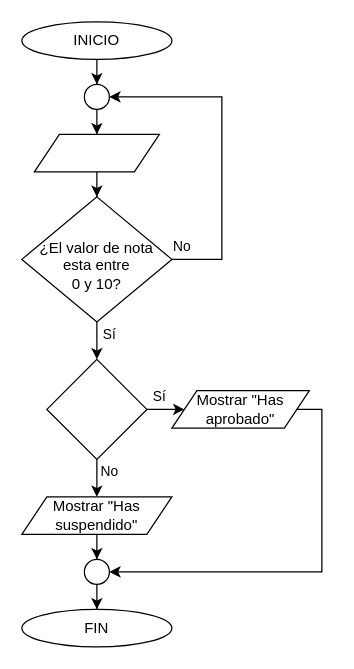
Image size: 354x669. Some labels were removed from this diagram. Here are the shapes that lost their labels. From the top down, the box of each, then its label:
(33, 133, 159, 172): Pedir nota
(46, 358, 147, 459): ¿Es nota mayor o igual que 5?
